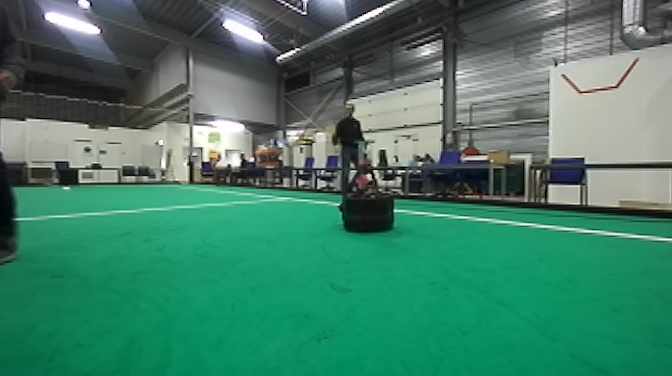human: (331, 101, 368, 202)
robot: (339, 138, 396, 233)
